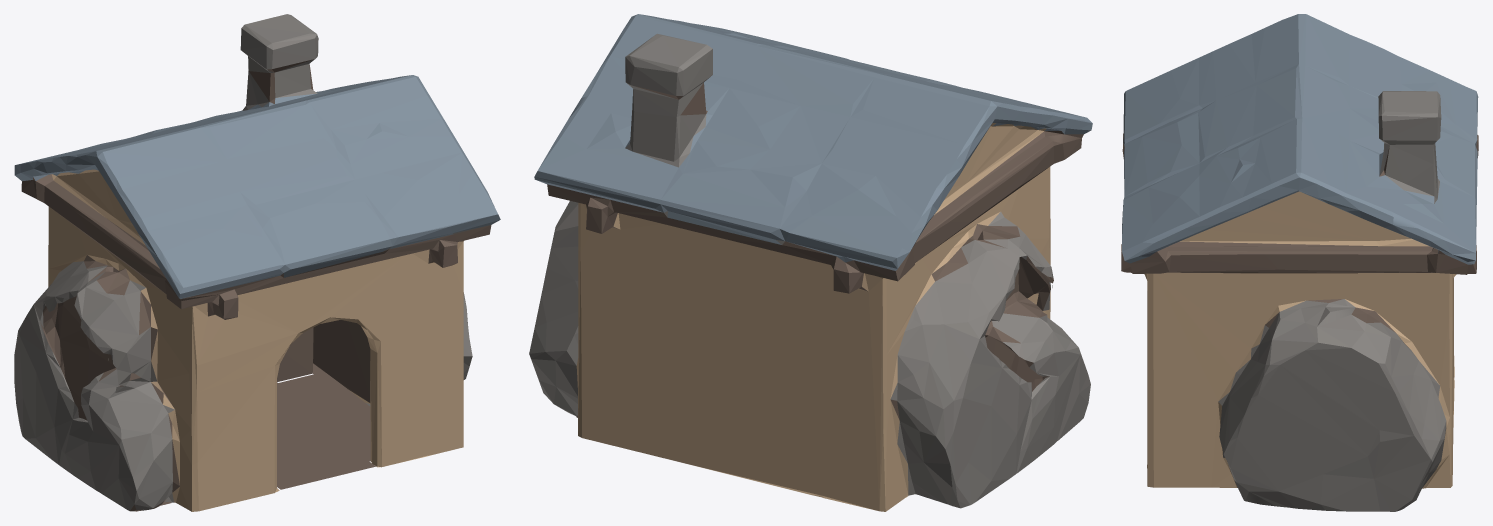
3 renders of one model, left to right at view 1: azimuth 30°, elevation 25°; view 2: azimuth 150°, elevation 25°; view 3: azimuth 270°, elevation 25°, orthographic. The views are drawn at different scales.
Visible parts, largest first — view 1: geometry_0; view 2: geometry_0; view 3: geometry_0.
Boxes of the visible parts, box(x1,y1,x2,y2) form: geometry_0: box(14, 14, 500, 511); geometry_0: box(529, 14, 1092, 511); geometry_0: box(1121, 14, 1478, 511).
Size of the model in its own units: 1 by 0.854 by 0.7795.
